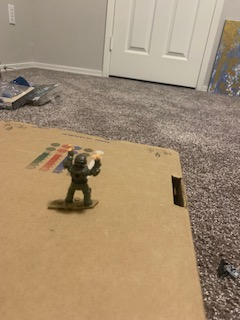soldier: (59, 140, 105, 212)
